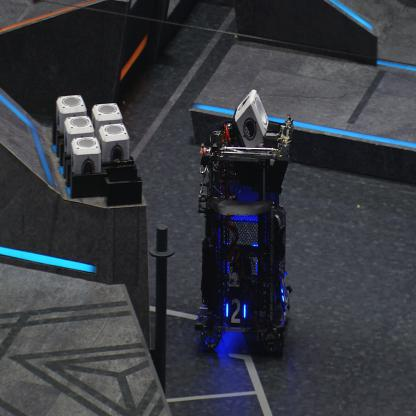car: (193, 116, 291, 354)
